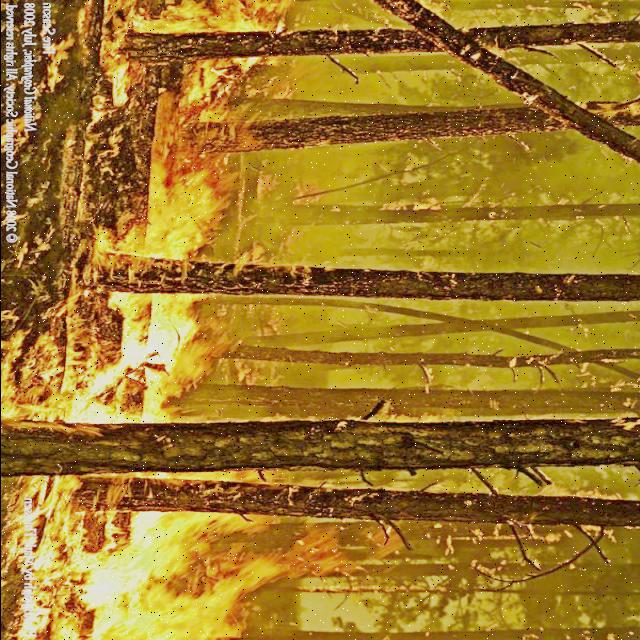api: (9, 509, 267, 640), (117, 95, 237, 254), (63, 293, 190, 423), (1, 315, 56, 430), (91, 7, 293, 37), (268, 523, 348, 593), (186, 317, 259, 383), (86, 37, 144, 90), (171, 63, 267, 95), (97, 469, 267, 487), (529, 482, 630, 505), (370, 409, 442, 426)
